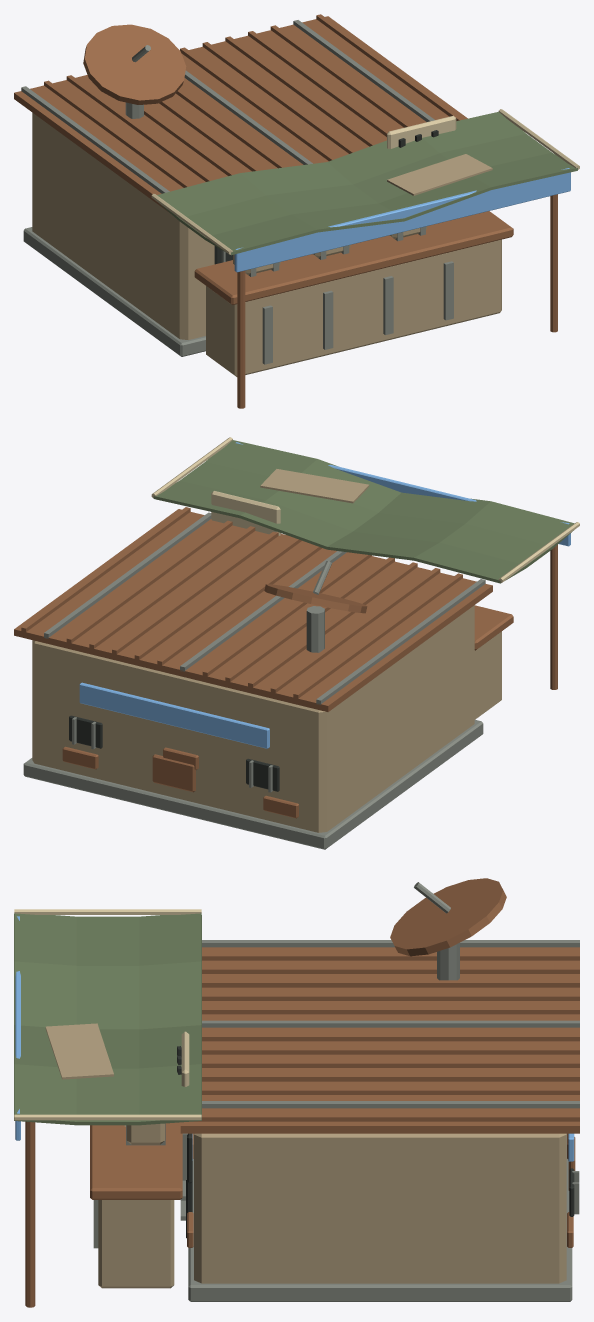
The model's file is black_market.glb.
3 renders of one model, top to bottom at view 1: azimuth 30°, elevation 25°; view 2: azimuth 150°, elevation 25°; view 3: azimuth 270°, elevation 25°, orthographic. The views are drawn at different scales.
Visible parts, largest first — view 1: black_market; view 2: black_market; view 3: black_market.
Part boxes in pixels (<box>): black_market: <box>14,14,579,408</box>; black_market: <box>14,437,579,849</box>; black_market: <box>14,878,579,1307</box>.
Size of the model in its own units: 2.6 by 1.62 by 2.99.
